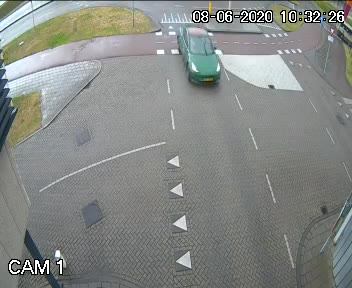car: (166, 26, 222, 99)
